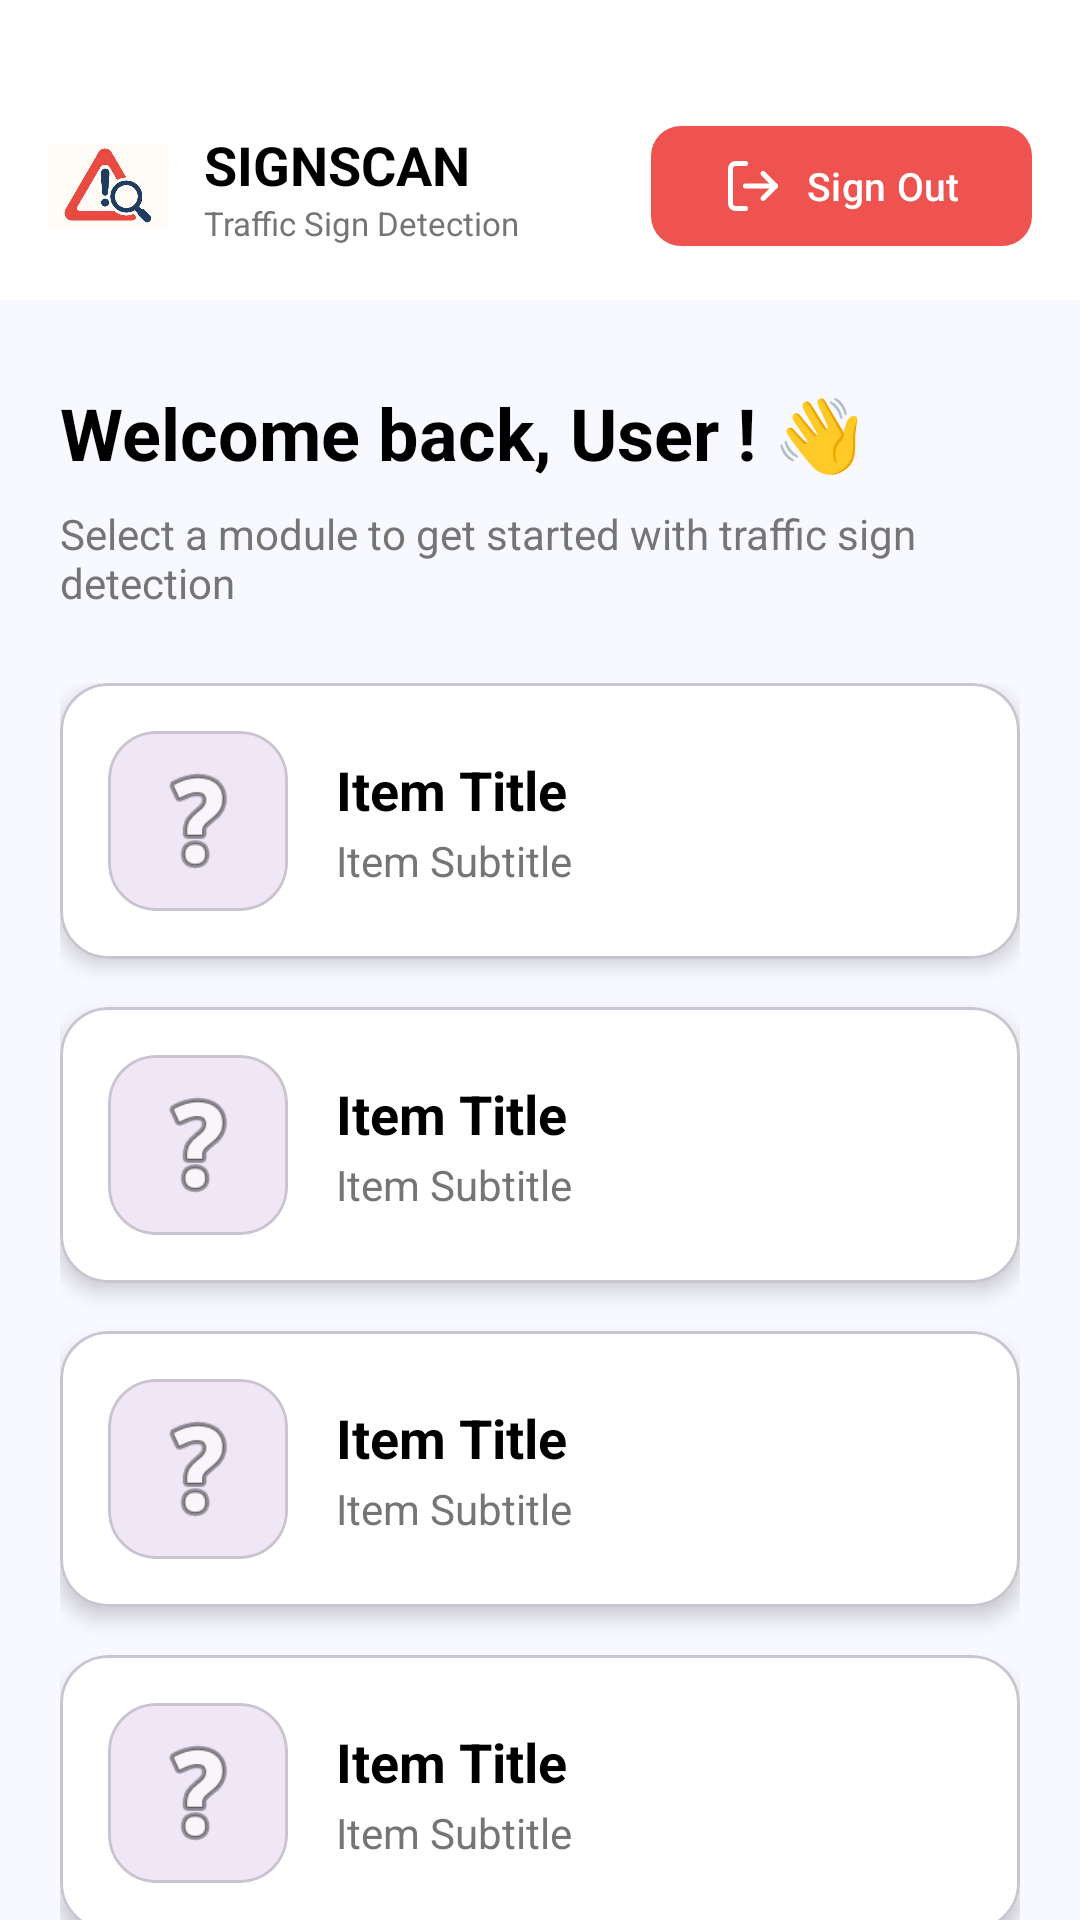

Screen size 1080x1920. Icon name, then its center in pixels as [x,y]:
help: [198,821], [198,1145], [198,1469], [198,1793]
